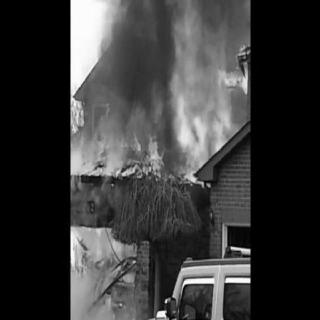Fire: (72, 4, 248, 183), (71, 217, 131, 313)
